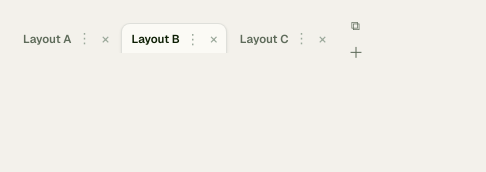
layout variant tabs › renames inline on double click and supports keyboard commit or cancel
Double-click the tab "Layout B": (152, 38) x1=122 y1=24 x2=182 y2=53
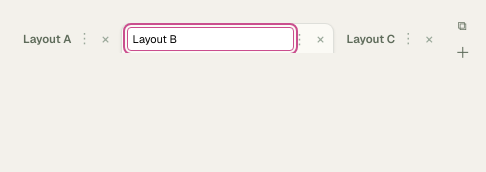
Replace the text in the field named "Rename Layout B" with "Fast service": (210, 38) x1=126 y1=26 x2=294 y2=50
Then press Enter
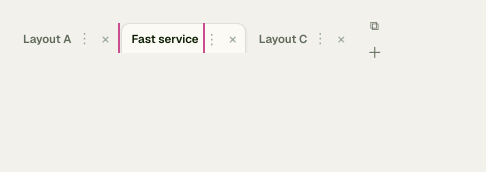
Expected: the tab "Fast service" is shown, x1=122 y1=24 x2=201 y2=53
Press F2
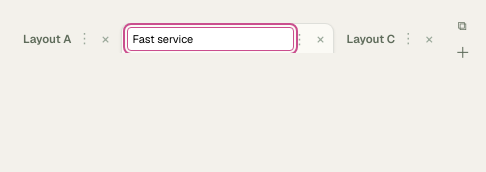
Replace the text in the field named "Rename Fast service" with "Discard me": (210, 38) x1=126 y1=26 x2=294 y2=50
Then press Escape
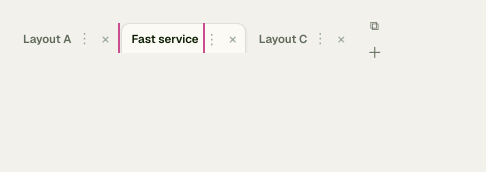
Expected: the tab "Fast service" is shown, x1=122 y1=24 x2=201 y2=53
